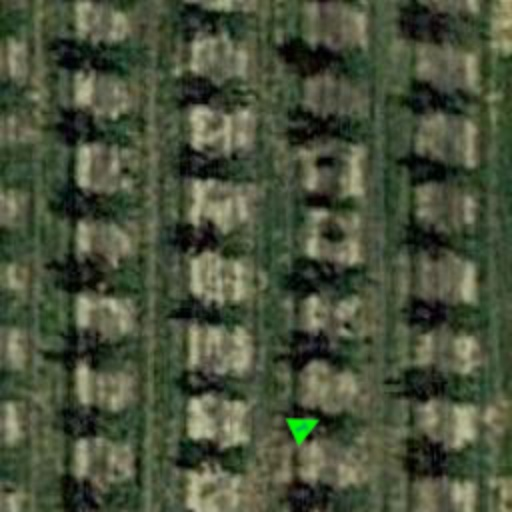triangle: (284, 404, 328, 448)
